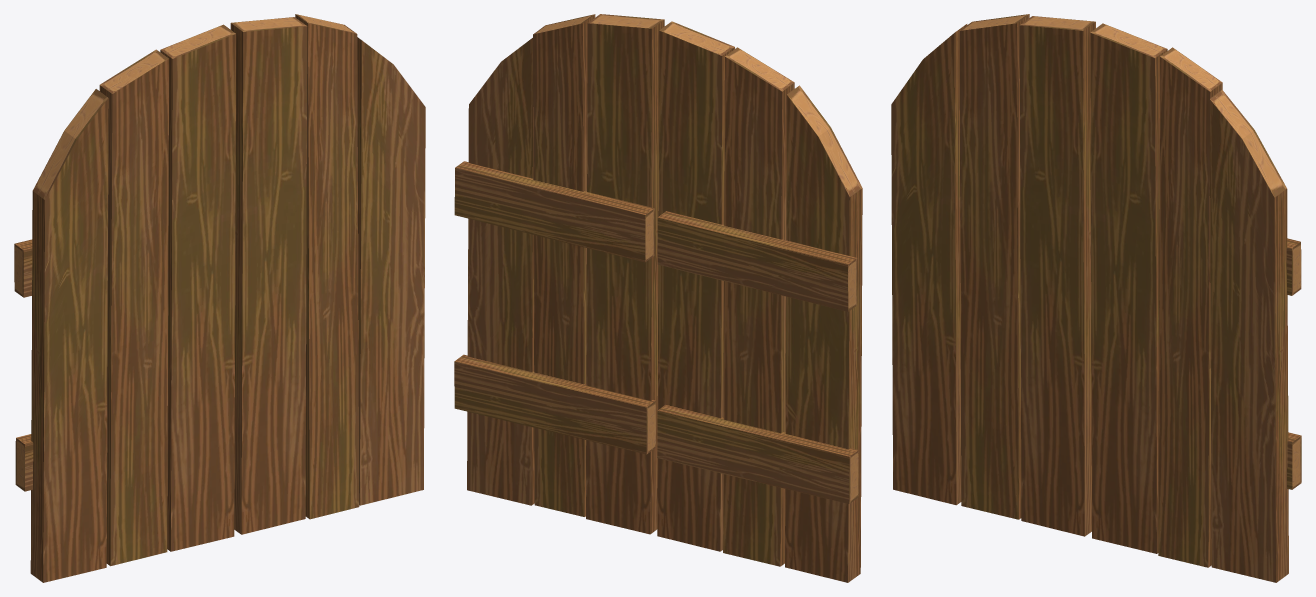
File: WindowShutters_Wide_Round_Closed.gltf
3 views of the same model, side by side, from view 1: azimuth 30°, elevation 25°; view 2: azimuth 150°, elevation 25°; view 3: azimuth 330°, elevation 25° (orthographic).
Parts seen in each view (by area): view 1: WindowShutters_Wide_Round_Closed; view 2: WindowShutters_Wide_Round_Closed; view 3: WindowShutters_Wide_Round_Closed.
Boxes of the visible parts, x1,y1,x2,y2 form: WindowShutters_Wide_Round_Closed: (14,14,425,582); WindowShutters_Wide_Round_Closed: (454,14,862,582); WindowShutters_Wide_Round_Closed: (891,14,1301,582).
Size of the model in its own units: 1.35 by 1.65 by 0.1358.
Materials: 1 (1 with a texture image).
